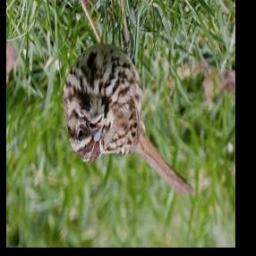Sparrow: (61, 4, 196, 200)
